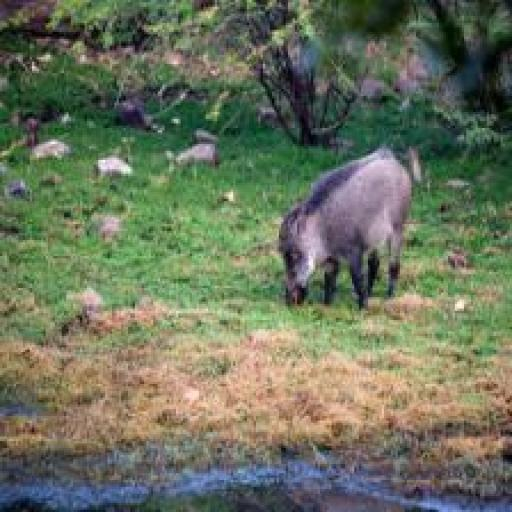Pig: (279, 146, 427, 306)
